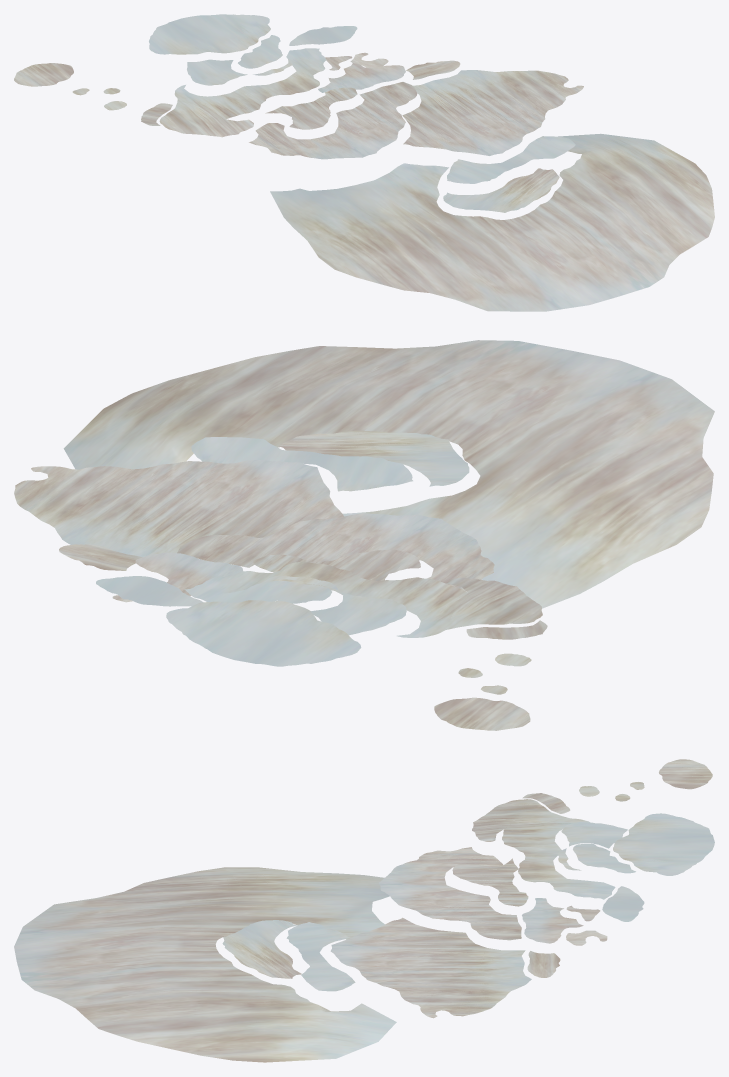
Rendered from M5_T_Collider1.FBX.
The picture shows the model from 3 angles, top to bottom: view 1: azimuth 30°, elevation 25°; view 2: azimuth 150°, elevation 25°; view 3: azimuth 270°, elevation 25°; orthographic projection. The views are drawn at different scales.
Visible parts, largest first — view 1: M5_T_Collider1; view 2: M5_T_Collider1; view 3: M5_T_Collider1.
Part boxes in pixels (x1,y1,x2,y2): M5_T_Collider1: (14, 14, 714, 311); M5_T_Collider1: (14, 340, 714, 730); M5_T_Collider1: (14, 759, 714, 1062).
Size of the model in its own units: 12718 by 1571 by 15226.
